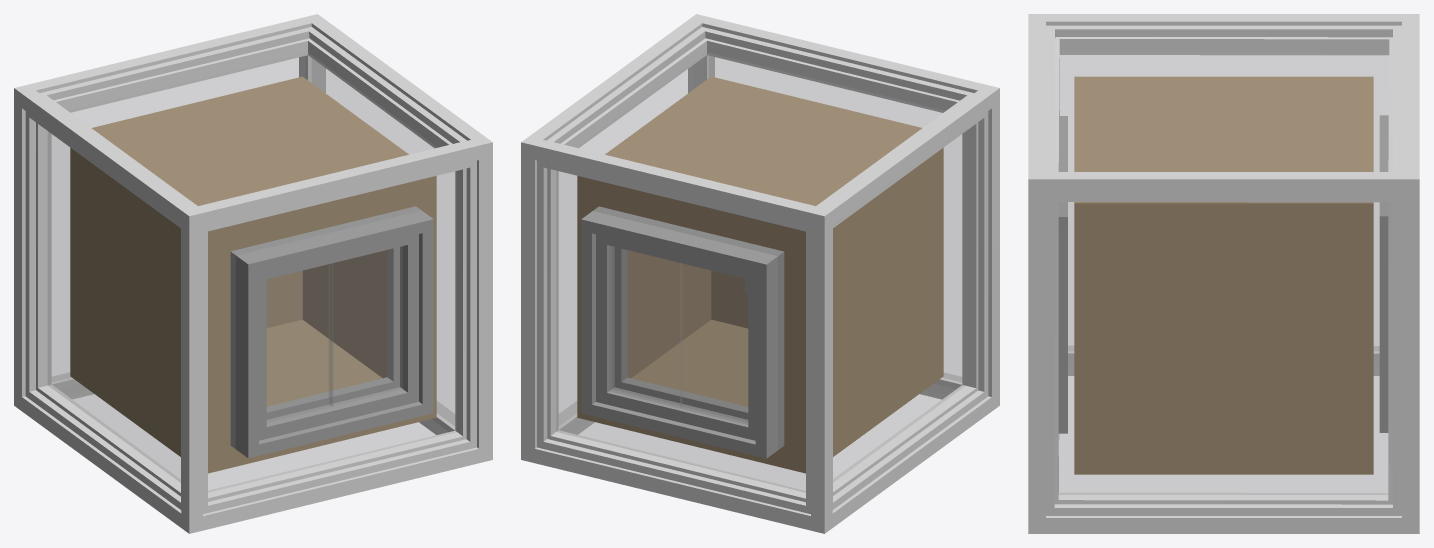
Rendered from PipeStright.fbx.
The picture shows the model from 3 angles, left to right: view 1: azimuth 30°, elevation 25°; view 2: azimuth 150°, elevation 25°; view 3: azimuth 270°, elevation 25°; orthographic projection. The views are drawn at different scales.
Visible parts, largest first — view 1: PipeStright, StrightDoor4, StrightDoor3; view 2: PipeStright, StrightDoor1, StrightDoor2; view 3: PipeStright.
Boxes of the visible parts, left/top/right/bottom form: PipeStright: left=14, top=14, right=492, bottom=533; StrightDoor4: left=329, top=246, right=402, bottom=405; StrightDoor3: left=267, top=263, right=332, bottom=422; PipeStright: left=521, top=14, right=999, bottom=533; StrightDoor1: left=610, top=246, right=682, bottom=407; StrightDoor2: left=680, top=263, right=747, bottom=424; PipeStright: left=1028, top=14, right=1419, bottom=533.
Bounding box in the file's own units: 4.4 × 4.4 × 4.4.
